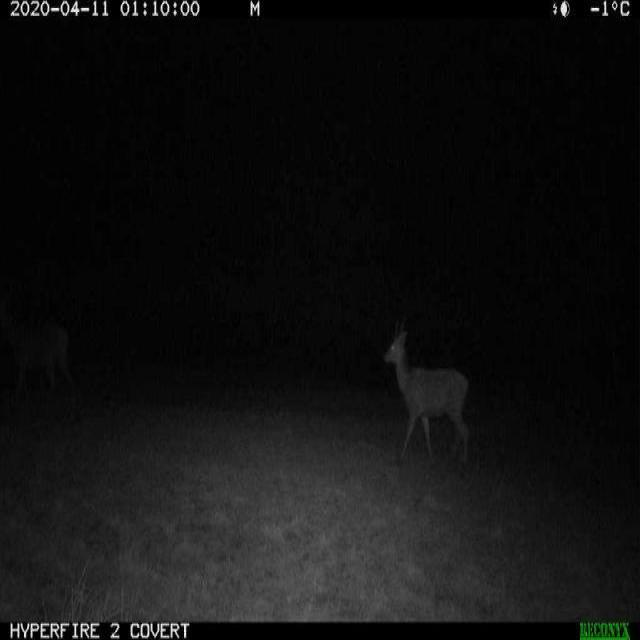deer: (370, 307, 483, 488)
